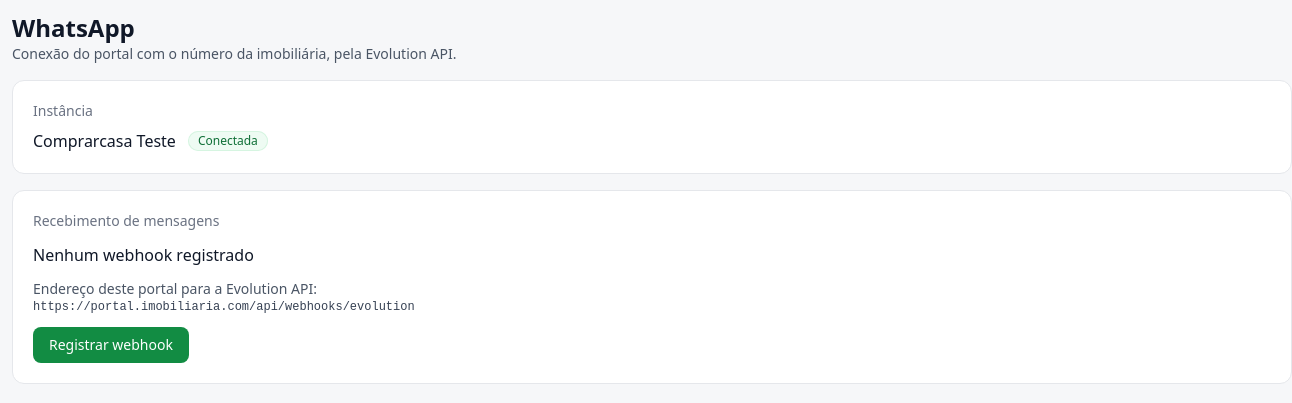
it: WhatsappSettings › registra o webhook e passa a mostrar que está ativo
This screenshot has width=1292, height=403.
What coordinates should you click on to do the following:
click the button "Registrar webhook"
I would click on:
 (111, 345)
Its box is left=33, top=327, right=189, bottom=363.
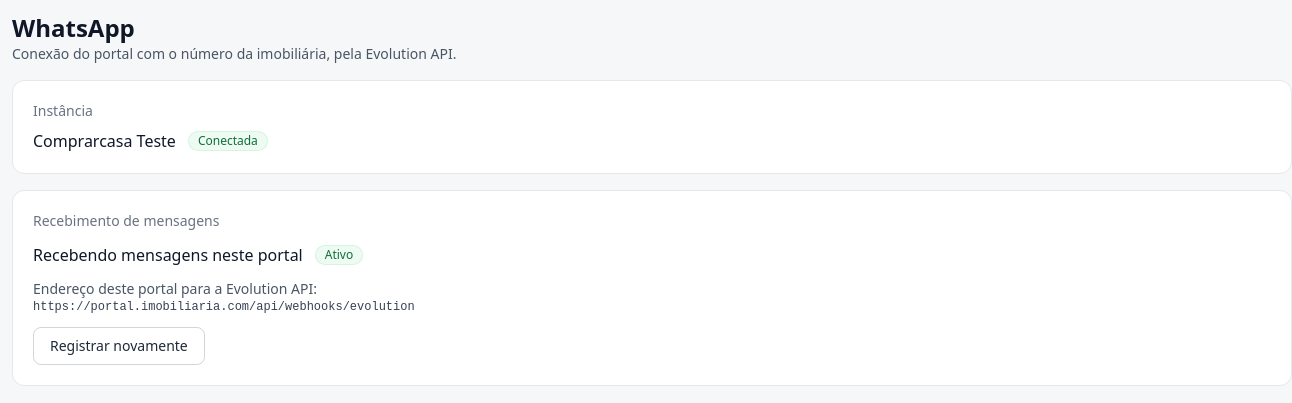
Expected: the text "Recebendo mensagens neste portal" is shown, left=33, top=243, right=303, bottom=267
